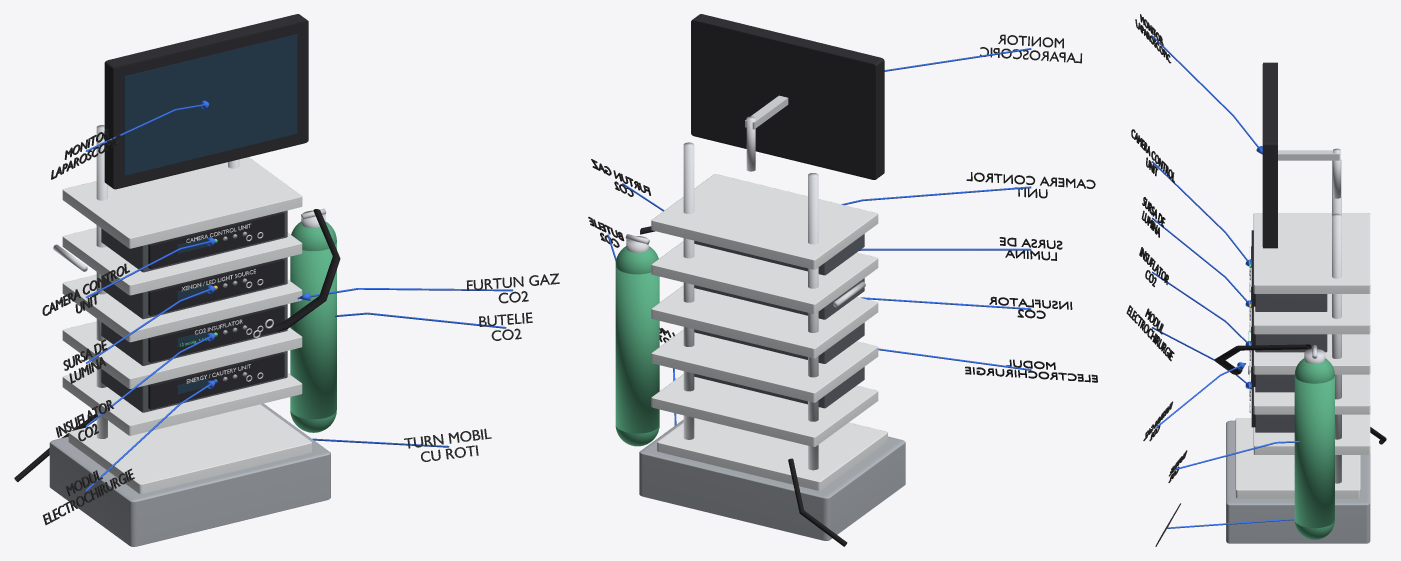
The model's file is turnlaparoscop.fbx.
The picture shows the model from 3 angles, left to right: view 1: azimuth 30°, elevation 25°; view 2: azimuth 150°, elevation 25°; view 3: azimuth 270°, elevation 25°; orthographic projection. The views are drawn at different scales.
Visible parts, largest first — view 1: Monitor_ecran, Baza_turn_laparoscopic, Raft_echipamente_5, Platforma_inferioara, Monitor_frame, Butelie_CO2_corp, Raft_echipamente_4, Raft_echipamente_1, Raft_echipamente_2, Raft_echipamente_3, Electrochirurgie_Energy_panou_fata, Camera_Control_Unit_panou_fata (+15 smaller); view 2: Monitor_frame, Baza_turn_laparoscopic, Raft_echipamente_5, Platforma_inferioara, Raft_echipamente_3, Raft_echipamente_4, Raft_echipamente_1, Raft_echipamente_2, Butelie_CO2_corp, Coloana_verticala_dreapta, Coloana_verticala_stanga, Electrochirurgie_Energy_corp (+8 smaller); view 3: Raft_echipamente_5, Baza_turn_laparoscopic, Butelie_CO2_corp, Platforma_inferioara, Raft_echipamente_4, Monitor_frame, Raft_echipamente_3, Raft_echipamente_2, Raft_echipamente_1, Coloana_verticala_dreapta, Camera_Control_Unit_corp, Sursa_Lumina_Rece_corp (+12 smaller).
Part boxes in pixels (left/top/right/bottom): Monitor_ecran: left=124, top=34, right=297, bottom=175; Baza_turn_laparoscopic: left=49, top=403, right=330, bottom=546; Raft_echipamente_5: left=62, top=157, right=302, bottom=248; Platforma_inferioara: left=68, top=404, right=312, bottom=493; Monitor_frame: left=104, top=14, right=308, bottom=189; Butelie_CO2_corp: left=290, top=242, right=336, bottom=419; Raft_echipamente_4: left=62, top=228, right=302, bottom=295; Raft_echipamente_1: left=62, top=368, right=302, bottom=435; Raft_echipamente_2: left=62, top=321, right=302, bottom=388; Raft_echipamente_3: left=62, top=274, right=302, bottom=342; Electrochirurgie_Energy_panou_fata: left=148, top=352, right=284, bottom=409; Camera_Control_Unit_panou_fata: left=148, top=212, right=284, bottom=269; Monitor_frame: left=691, top=14, right=884, bottom=179; Baza_turn_laparoscopic: left=639, top=419, right=905, bottom=540; Raft_echipamente_5: left=651, top=174, right=878, bottom=269; Platforma_inferioara: left=657, top=418, right=887, bottom=490; Raft_echipamente_3: left=651, top=285, right=878, bottom=358; Raft_echipamente_4: left=651, top=241, right=878, bottom=313; Raft_echipamente_1: left=651, top=374, right=878, bottom=446; Raft_echipamente_2: left=651, top=330, right=878, bottom=402; Butelie_CO2_corp: left=615, top=266, right=659, bottom=433; Coloana_verticala_dreapta: left=683, top=142, right=694, bottom=439; Coloana_verticala_stanga: left=808, top=173, right=818, bottom=470; Electrochirurgie_Energy_corp: left=694, top=367, right=864, bottom=408; Raft_echipamente_5: left=1253, top=213, right=1370, bottom=293; Baza_turn_laparoscopic: left=1226, top=420, right=1370, bottom=543; Butelie_CO2_corp: left=1294, top=376, right=1334, bottom=528; Platforma_inferioara: left=1235, top=418, right=1360, bottom=498; Raft_echipamente_4: left=1253, top=294, right=1370, bottom=334; Monitor_frame: left=1262, top=62, right=1277, bottom=248; Raft_echipamente_3: left=1253, top=334, right=1370, bottom=374; Raft_echipamente_2: left=1253, top=374, right=1370, bottom=414; Raft_echipamente_1: left=1253, top=414, right=1370, bottom=454; Coloana_verticala_dreapta: left=1332, top=213, right=1341, bottom=483; Camera_Control_Unit_corp: left=1255, top=294, right=1327, bottom=311; Sursa_Lumina_Rece_corp: left=1255, top=334, right=1327, bottom=352.
Size of the model in its own units: 376 by 320 by 188.
